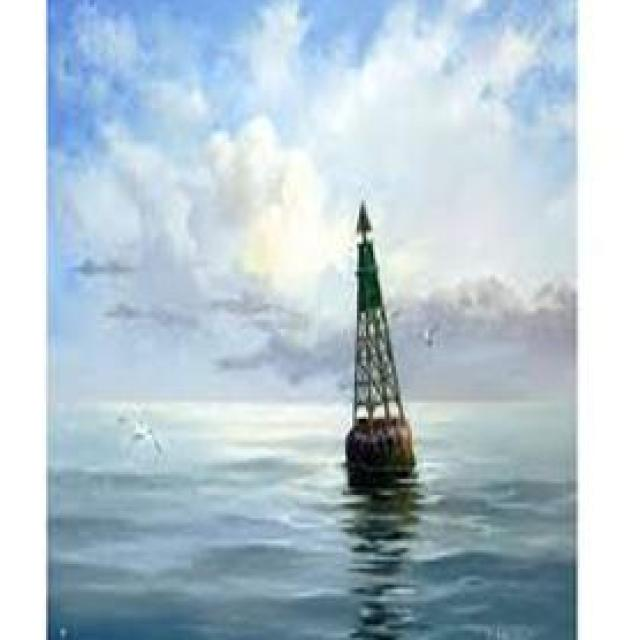buoy: (328, 194, 431, 483)
